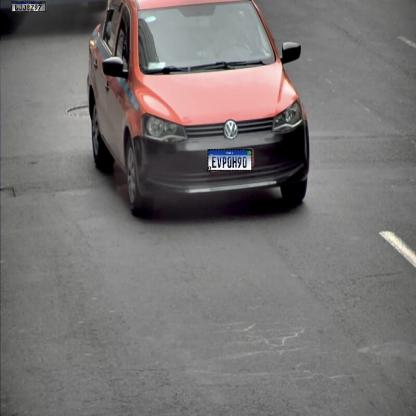PlacaM: (208, 149, 252, 171), (11, 1, 46, 12)
